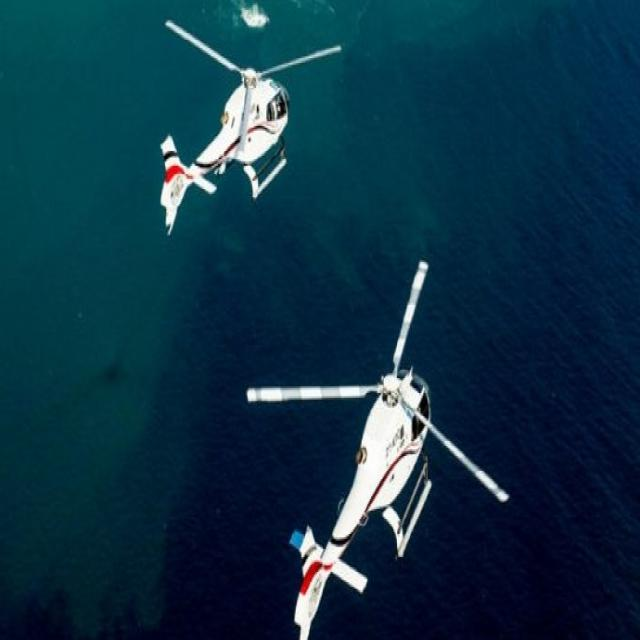helicopter: (250, 265, 516, 639), (163, 21, 307, 245)
